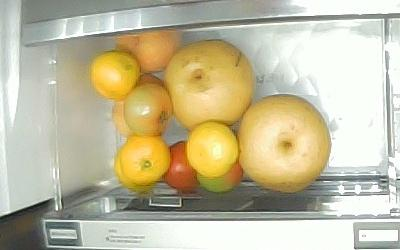peach: (114, 29, 179, 73)
pear: (238, 94, 330, 192), (163, 39, 255, 131)
tangerine: (186, 121, 238, 177), (90, 51, 139, 100), (121, 136, 170, 185)
tomato: (123, 83, 171, 135), (162, 140, 198, 192), (196, 164, 243, 193)
